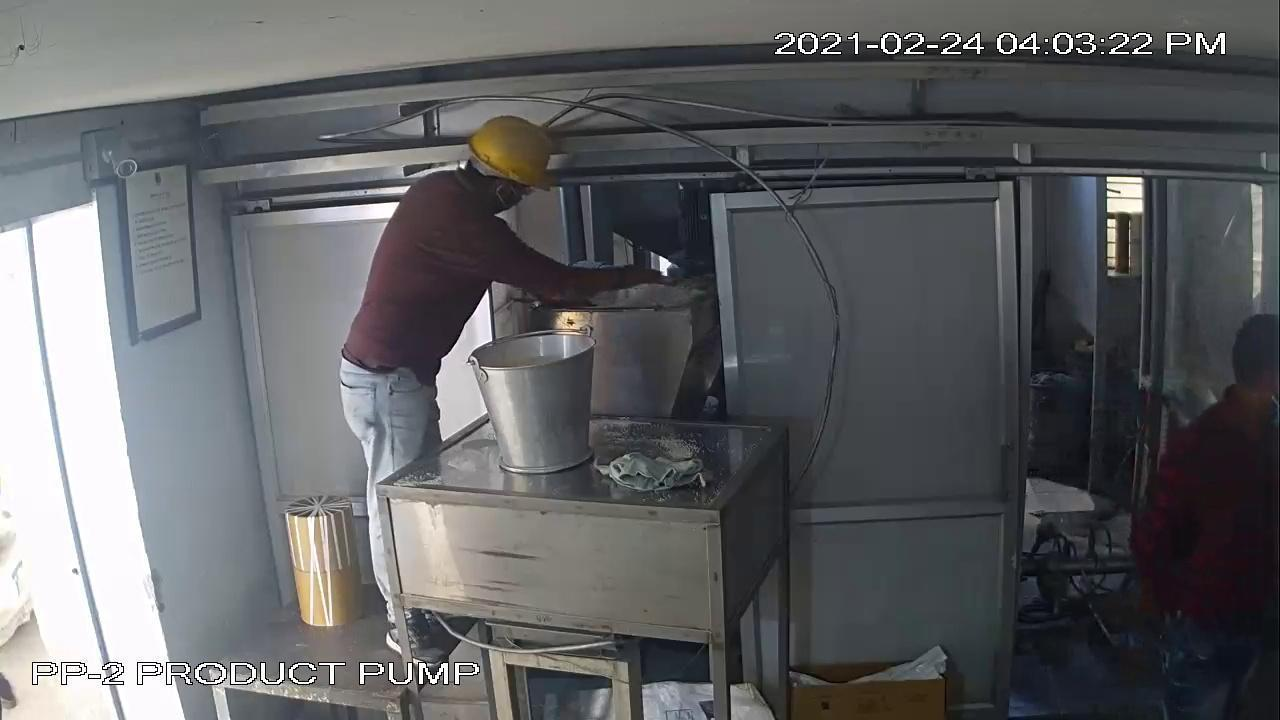helmet: (456, 113, 560, 192)
